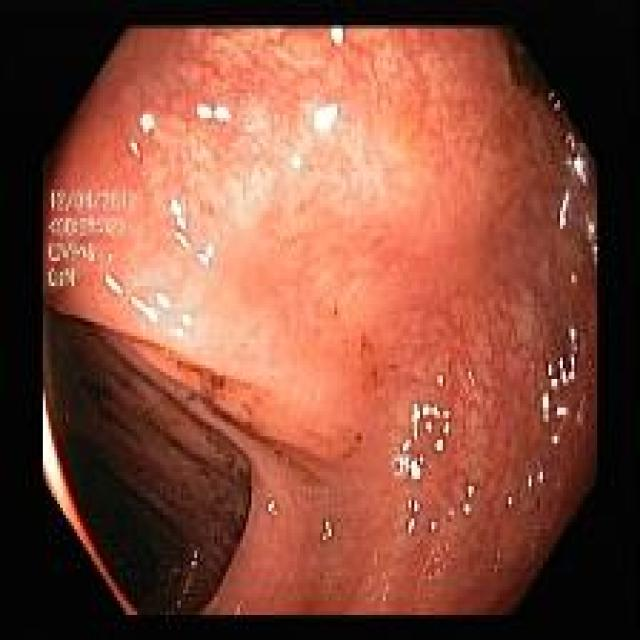ulcerative-colitis: (124, 29, 467, 270), (385, 276, 582, 581)
